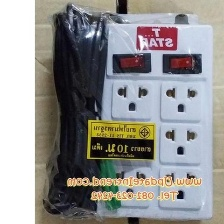three_eye_plug: (80, 10, 217, 223)
